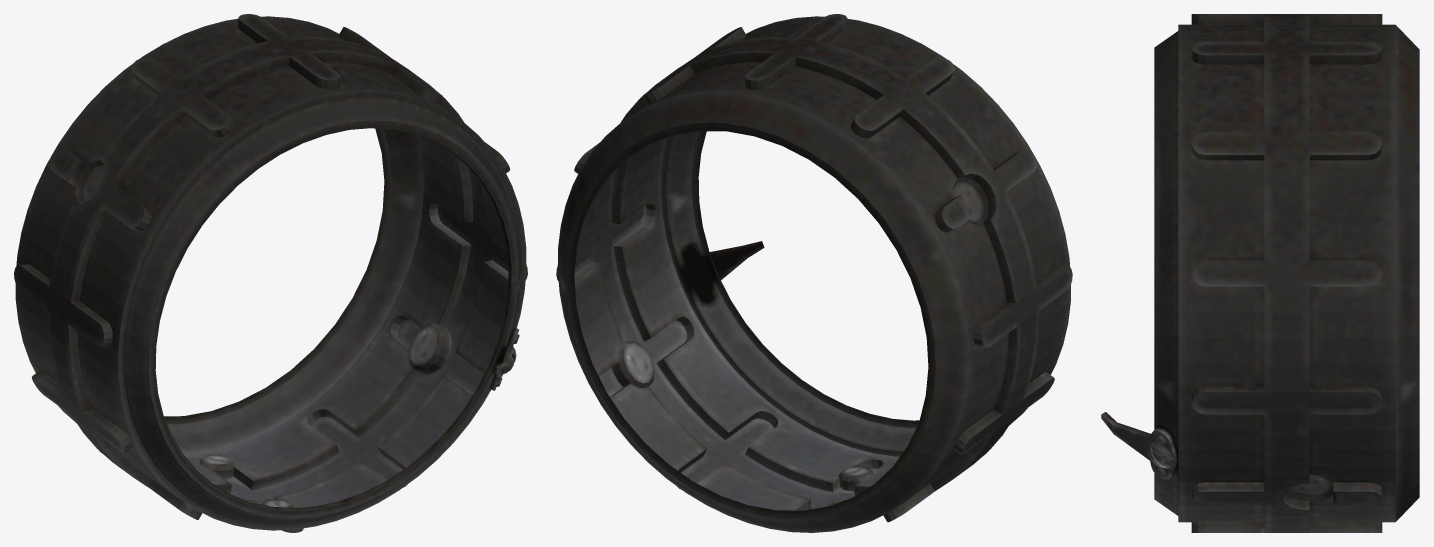
3 views of the same model, side by side, from view 1: azimuth 30°, elevation 25°; view 2: azimuth 150°, elevation 25°; view 3: azimuth 270°, elevation 25° (orthographic). The views are drawn at different scales.
Parts seen in each view (by area): view 1: TW_5d0a3a58d7ad1a669c15ca14_PZ_Import; view 2: TW_5d0a3a58d7ad1a669c15ca14_PZ_Import; view 3: TW_5d0a3a58d7ad1a669c15ca14_PZ_Import.
Part boxes in pixels (x1,y1,x2,y2): TW_5d0a3a58d7ad1a669c15ca14_PZ_Import: [14, 14, 527, 532]; TW_5d0a3a58d7ad1a669c15ca14_PZ_Import: [556, 14, 1072, 532]; TW_5d0a3a58d7ad1a669c15ca14_PZ_Import: [1101, 14, 1419, 532].
Bounding box in the file's own units: 0.0323 × 0.0198 × 0.0323.
1 material, 1 textured.
